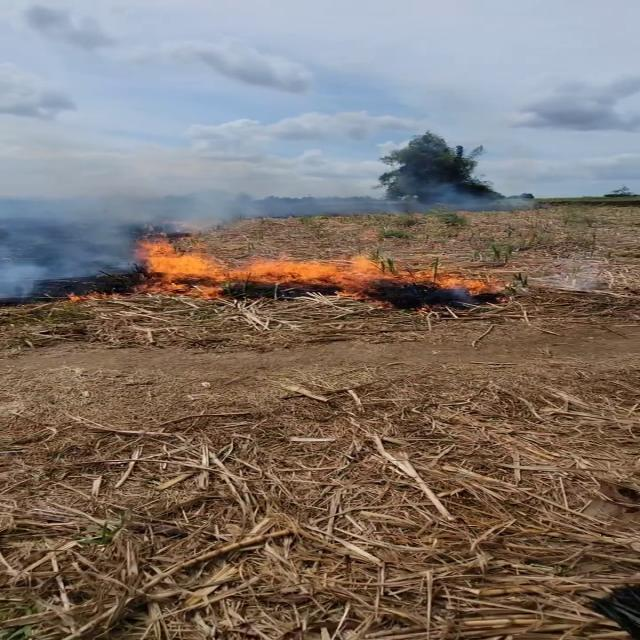Fire: (119, 232, 402, 300)
Smoke: (2, 128, 280, 284)
